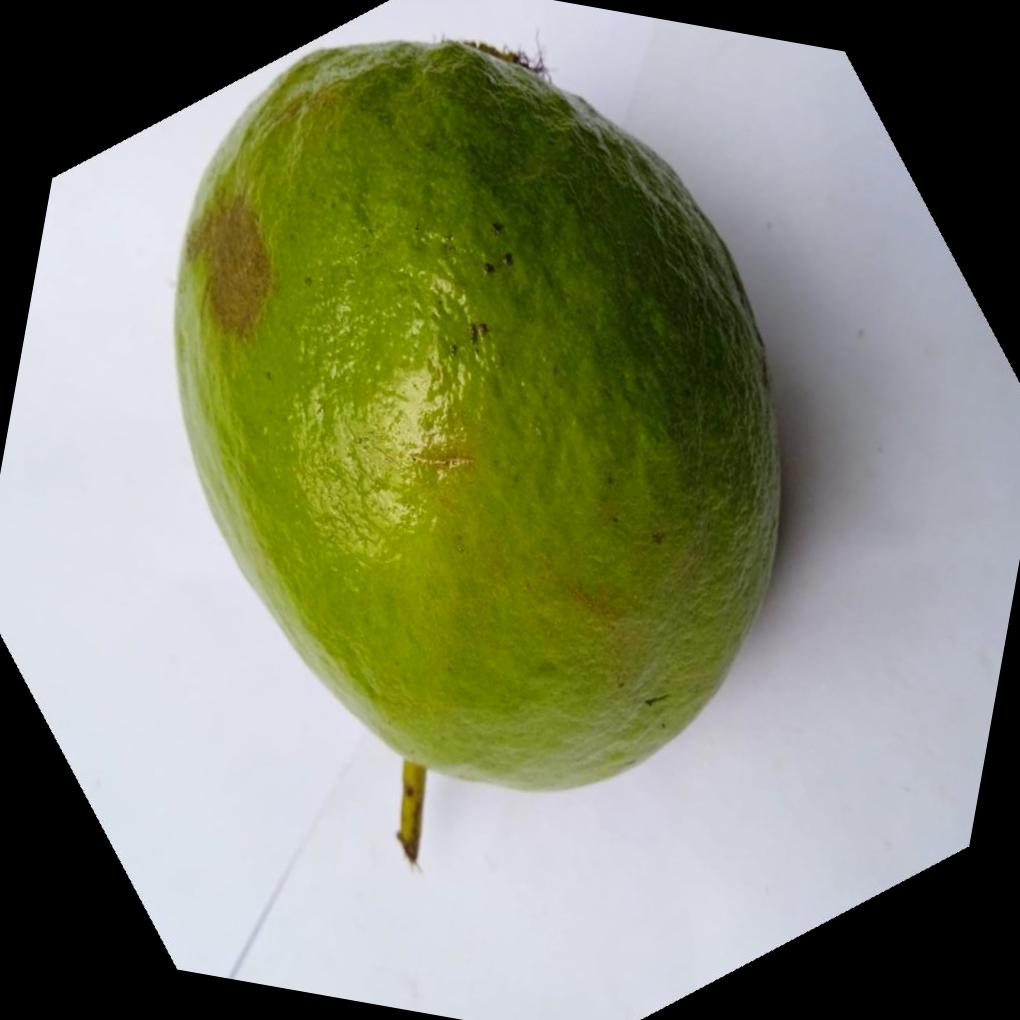FreshGuava: (168, 34, 783, 794)
